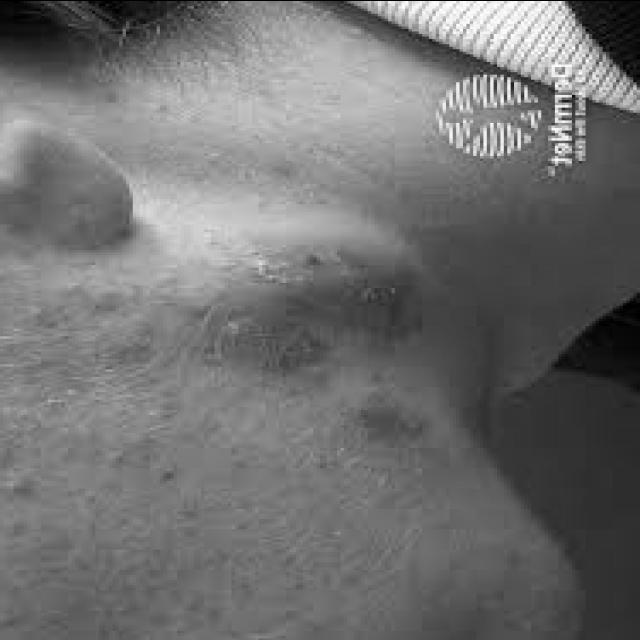nodule: (178, 236, 442, 380)
papule: (326, 364, 434, 452)
